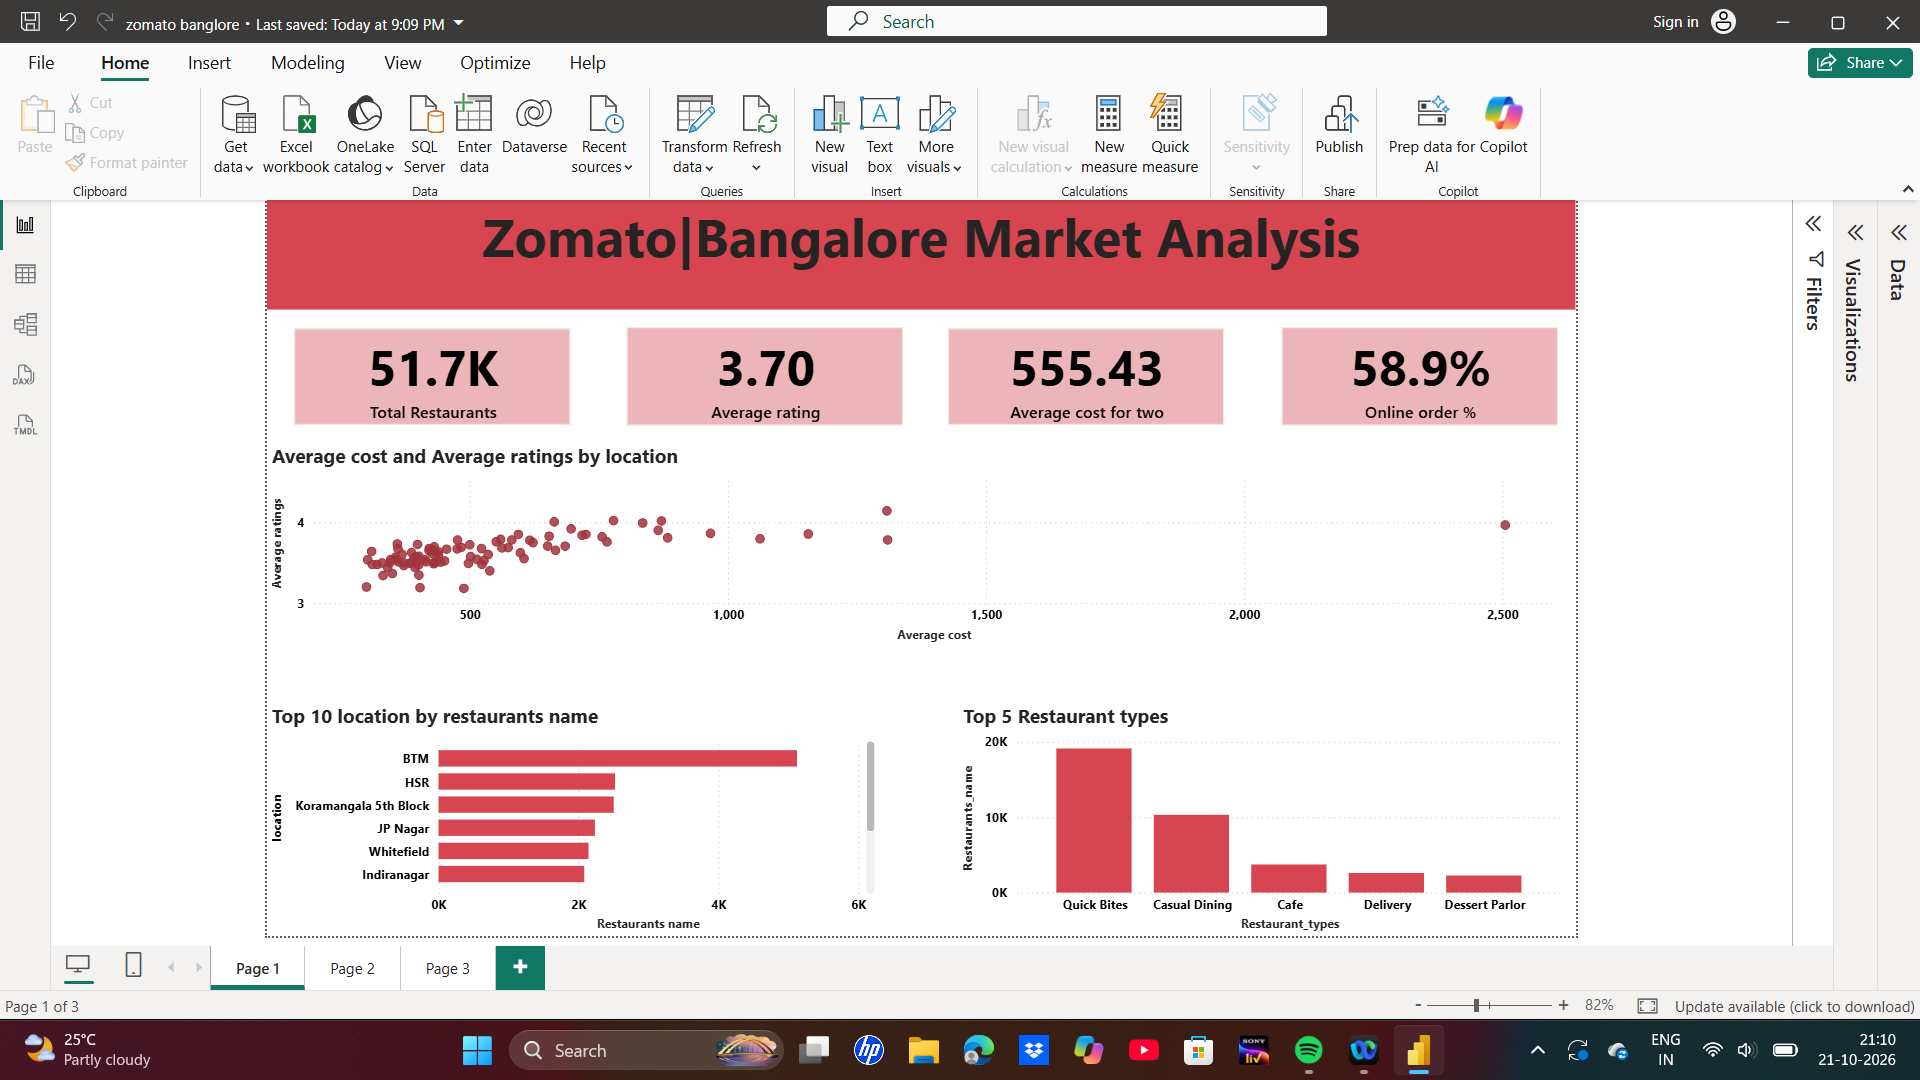

Layout of this report page (visuals, bound fields, positions):
{"tool":"powerbi","page":{"name":"Page 1","canvas":[1280,720],"ordinal":0},"visuals":[{"type":"image","box":[0,0,109.8,90.6],"z":0},{"type":"textbox","title":"Zomato|Bangalore Market Analysis","box":[0,0,1280.3,107],"z":1000},{"type":"cardVisual","fields":{"Data":["CountNonNull(zomato_final_sql.cleaned_name)"]},"box":[9.6,108.4,304.6,129],"z":2000},{"type":"cardVisual","fields":{"Data":["Avg(zomato_final_sql.cleaned_ratings)"]},"box":[334.8,107,304.6,130.4],"z":3000},{"type":"cardVisual","fields":{"Data":["Avg(zomato_final_sql.cleaned_cost)"]},"box":[649.1,108.4,304.6,129],"z":4000},{"type":"cardVisual","fields":{"Data":["zomato.Online order %"]},"box":[975.6,107,304.6,130.4],"z":5000},{"type":"clusteredBarChart","title":"Top 10 location by restaurants name","fields":{"Y":["CountNonNull(zomato.cleaned_name)"],"Category":["zomato.cleaned_location"]},"box":[0,491.3,599.7,229.2],"z":6000},{"type":"clusteredColumnChart","title":"Top 5 Restaurant types","fields":{"Category":["zomato.cleaned_rest_type"],"Y":["CountNonNull(zomato.cleaned_name)"]},"box":[676.5,491.3,596.9,229.2],"z":7000},{"type":"scatterChart","fields":{"X":["Avg(zomato.cleaned_cost)"],"Y":["Avg(zomato.cleaned_ratings)"],"Category":["zomato.cleaned_location"]},"box":[0,237.4,1280.3,200.3],"z":10001}]}

Visuals, with their boxes on the page's 1280x720 design canvas (x1, y1, x2, y2). These are canvas units, not pixel positions in the 1920x1080 screenshot, which may show the page scaled, cropped or inside an application window:
image: x1=0 y1=0 x2=110 y2=91
"Zomato|Bangalore Market Analysis" textbox: x1=0 y1=0 x2=1280 y2=107
cardVisual - CountNonNull(zomato_final_sql.cleaned_name): x1=10 y1=108 x2=314 y2=237
cardVisual - Avg(zomato_final_sql.cleaned_ratings): x1=335 y1=107 x2=639 y2=237
cardVisual - Avg(zomato_final_sql.cleaned_cost): x1=649 y1=108 x2=954 y2=237
cardVisual - zomato.Online order %: x1=976 y1=107 x2=1280 y2=237
"Top 10 location by restaurants name" clusteredBarChart: x1=0 y1=491 x2=600 y2=720
"Top 5 Restaurant types" clusteredColumnChart: x1=676 y1=491 x2=1273 y2=720
scatterChart - Avg(zomato.cleaned_cost) x Avg(zomato.cleaned_ratings): x1=0 y1=237 x2=1280 y2=438
